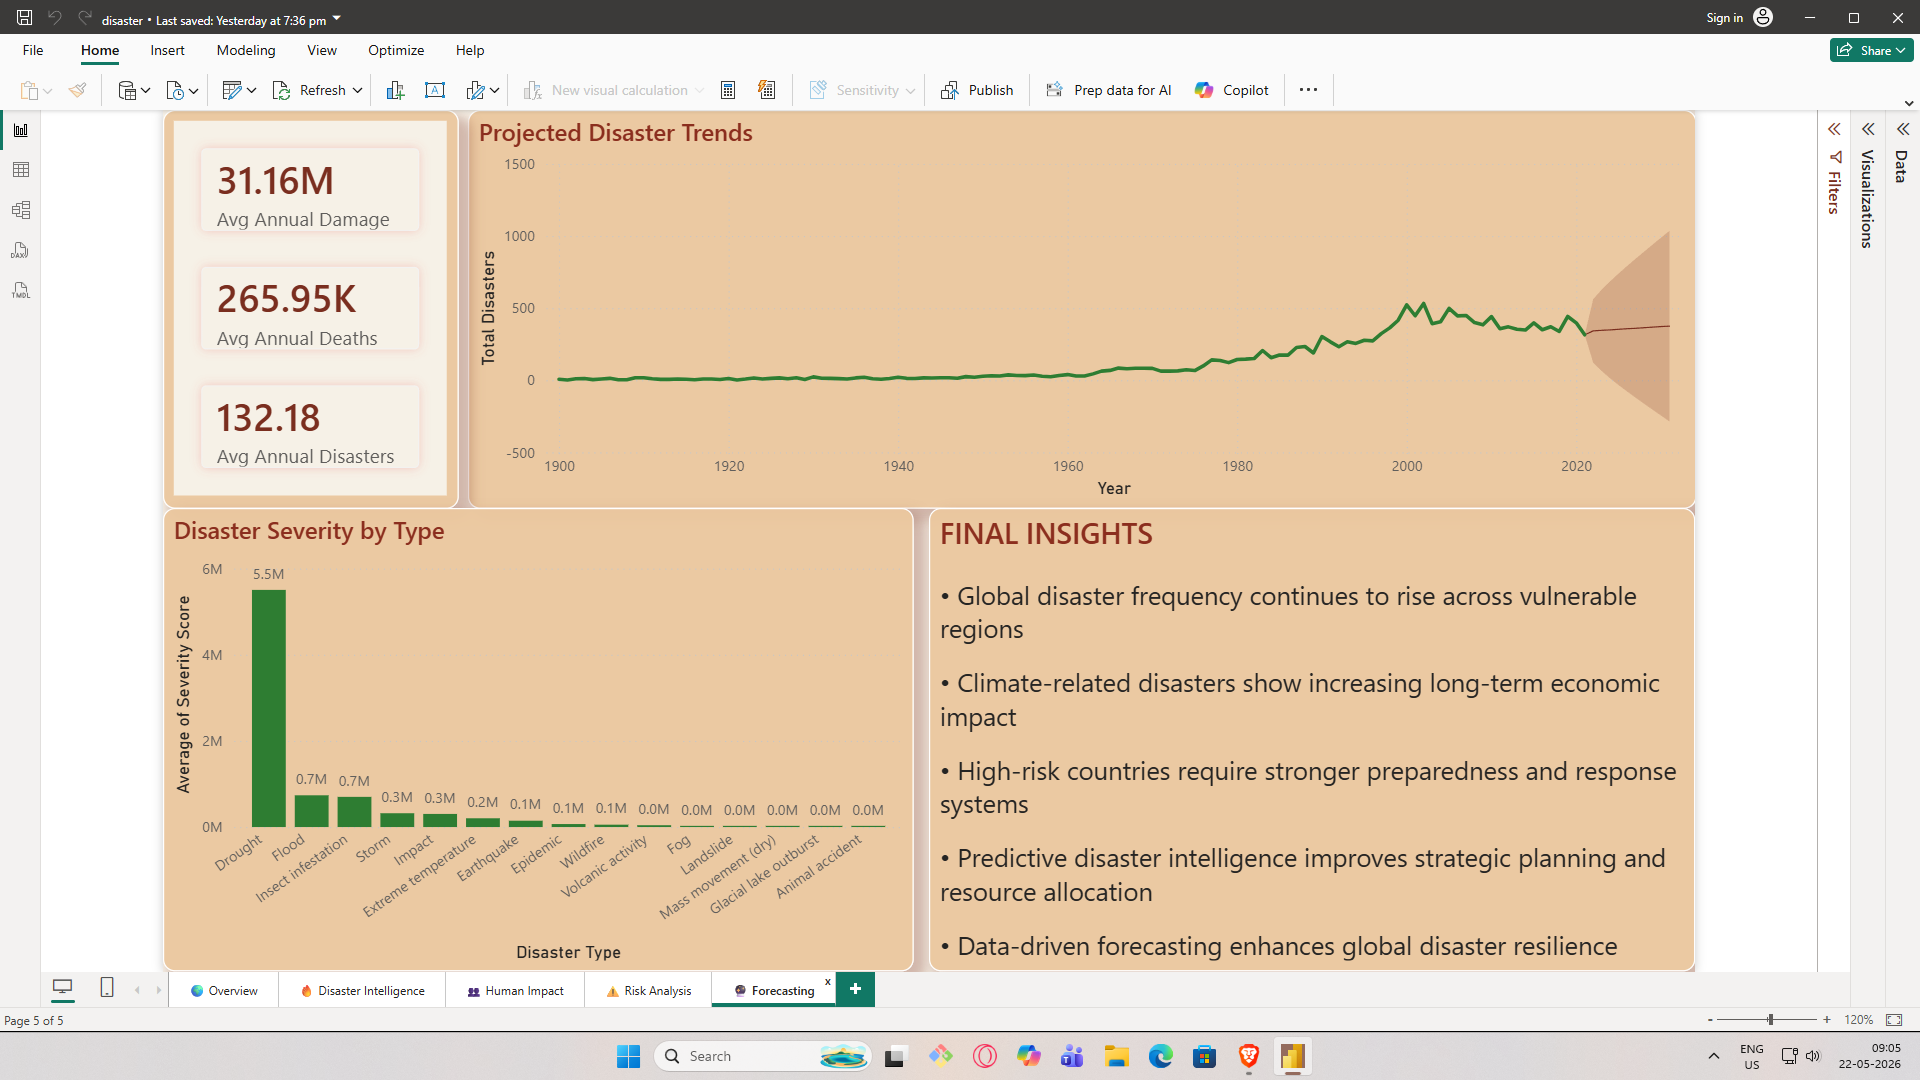

The page's visual inventory and layout, read from the dashboard file:
{"tool":"powerbi","page":{"name":"🔮 Forecasting","canvas":[1280,720],"ordinal":4},"visuals":[{"type":"lineChart","title":"Projected Disaster Trends","fields":{"Category":["Data.Year"],"Y":["Data.Total Disasters"]},"box":[254.4,0,1025.6,332.9],"z":0},{"type":"cardVisual","fields":{"Data":["Data.Avg Annual Damage","Data.Avg Annual Deaths","Data.Avg Annual Disasters"]},"box":[0,0,246.5,332.5],"z":1000},{"type":"clusteredColumnChart","title":"Disaster Severity by Type","fields":{"Category":["Data.Disaster Type"],"Y":["Avg(Data.Severity Score)"]},"box":[0,332.5,626.9,387.5],"z":2000},{"type":"textbox","title":"FINAL INSIGHTS","box":[640.2,332.5,640.2,387.5],"z":3000}]}

Visuals, with their boxes on the page's 1280x720 design canvas (x1, y1, x2, y2). These are canvas units, not pixel positions in the 1920x1080 screenshot, which may show the page scaled, cropped or inside an application window:
"Projected Disaster Trends" lineChart: left=254, top=0, right=1280, bottom=333
cardVisual - Data.Avg Annual Damage x Data.Avg Annual Deaths: left=0, top=0, right=246, bottom=332
"Disaster Severity by Type" clusteredColumnChart: left=0, top=332, right=627, bottom=720
"FINAL INSIGHTS" textbox: left=640, top=332, right=1280, bottom=720
